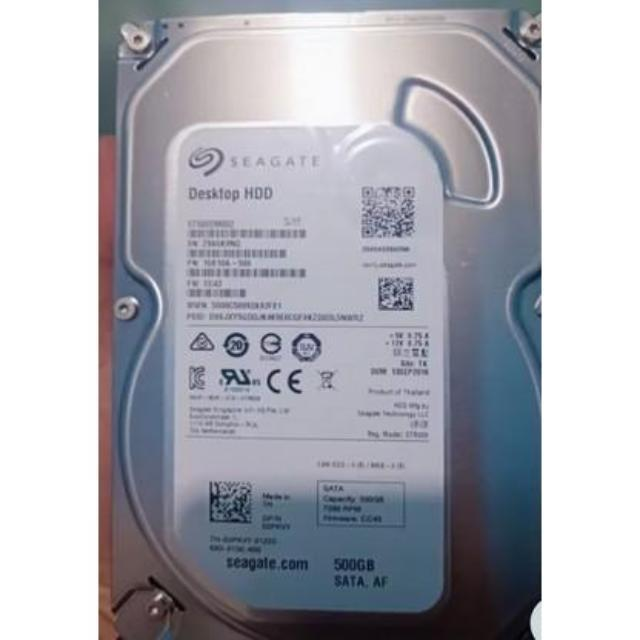DISK: (113, 14, 553, 640)
